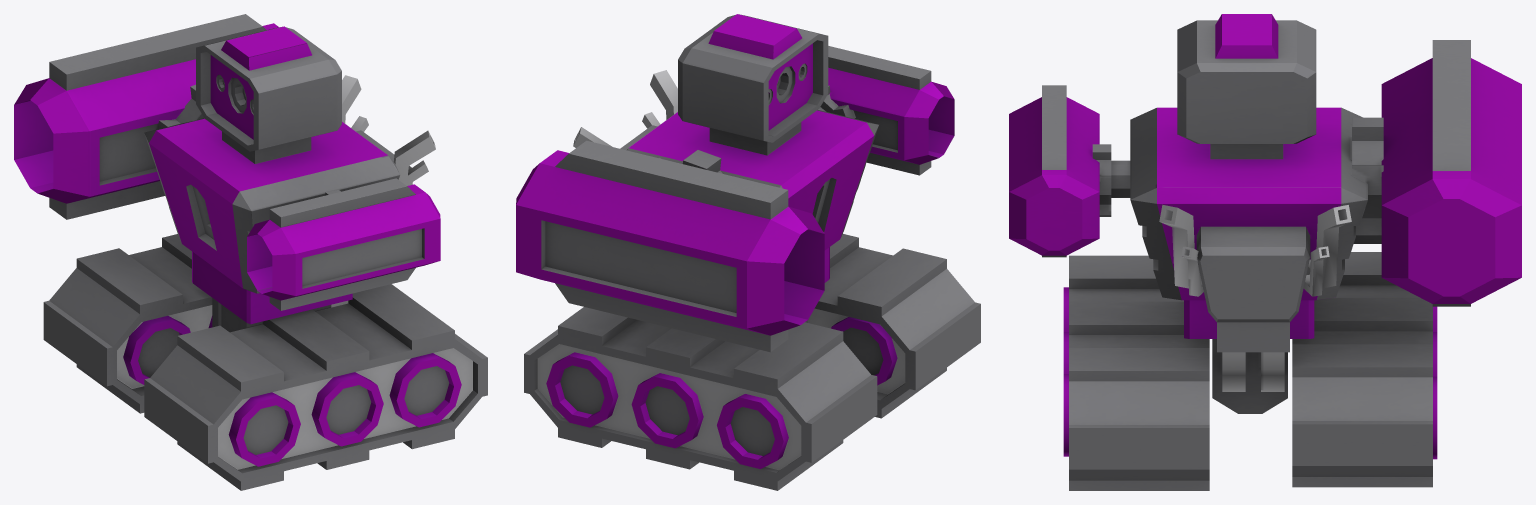
File: Enemy2_Idle0.obj
3 views of the same model, side by side, from view 1: azimuth 30°, elevation 25°; view 2: azimuth 150°, elevation 25°; view 3: azimuth 270°, elevation 25° (orthographic). The views are drawn at different scales.
Visible parts, largest first — view 1: Object006, Object007, Object010, Object009; view 2: Object006, Object007, Object010, Object009; view 3: Object006, Object007, Object010, Object009, Object008.
Part boxes in pixels (x1,y1,x2,y2): Object006: (14,14,487,490); Object007: (144,26,399,332); Object010: (331,75,435,307); Object009: (156,84,203,129); Object006: (516,46,980,490); Object007: (627,14,878,322); Object010: (573,70,677,150); Object009: (659,150,722,173); Object006: (1009,40,1521,490); Object007: (1130,14,1367,413); Object010: (1159,204,1351,391); Object009: (1352,117,1383,243); Object008: (1092,144,1130,216).
Size of the model in its own units: 87.45 by 108 by 125.
